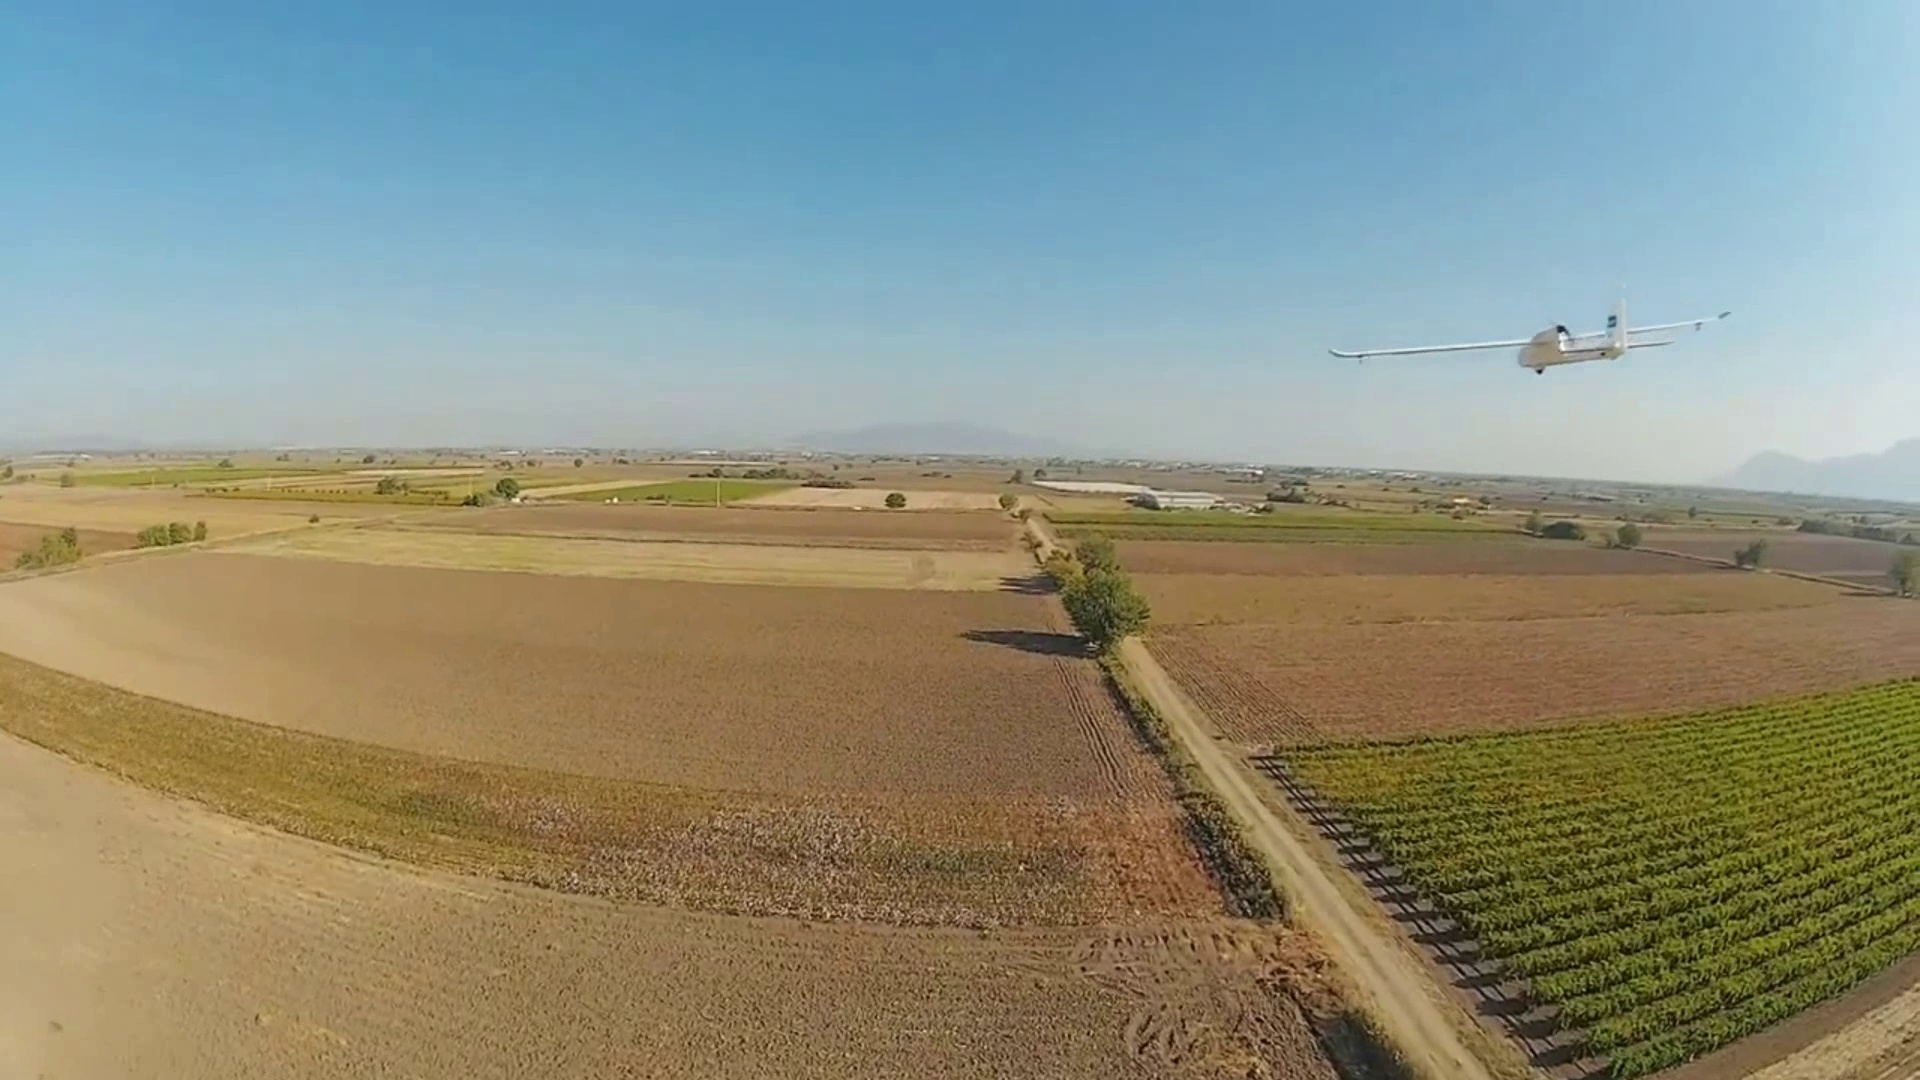airplane: (1327, 296, 1729, 376)
